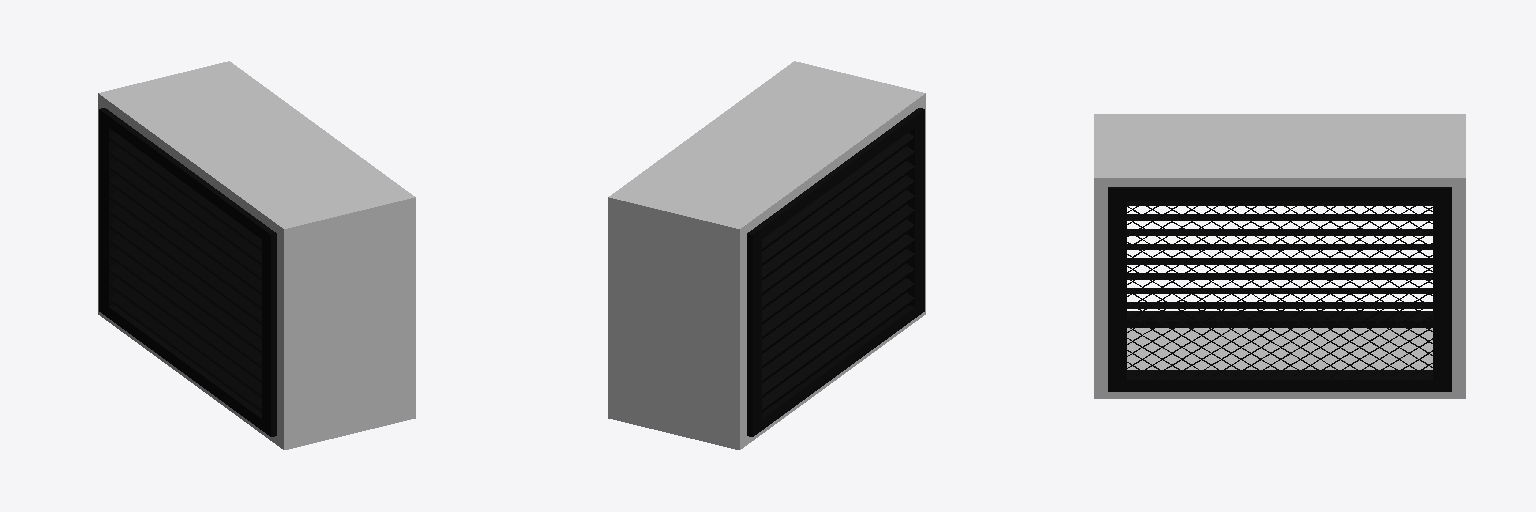
The model's file is kratka.obj.
The picture shows the model from 3 angles: view 1: azimuth 30°, elevation 25°; view 2: azimuth 150°, elevation 25°; view 3: azimuth 270°, elevation 25°; orthographic projection.
Visible parts, largest first — view 1: Kostka, Kostka.003_Kostka.004; view 2: Kostka, Kostka.003_Kostka.004; view 3: Kostka, Kostka.004_Kostka.005, Kostka.003_Kostka.004, Prostokąt_Prostokąt.001.
Part boxes in pixels (bbox=[...]): Kostka: bbox=[98, 61, 415, 449]; Kostka.003_Kostka.004: bbox=[99, 108, 276, 436]; Kostka: bbox=[608, 61, 925, 449]; Kostka.003_Kostka.004: bbox=[747, 108, 924, 436]; Kostka: bbox=[1094, 114, 1465, 398]; Kostka.004_Kostka.005: bbox=[1108, 187, 1451, 391]; Kostka.003_Kostka.004: bbox=[1127, 201, 1432, 327]; Prostokąt_Prostokąt.001: bbox=[1127, 201, 1432, 377].
Bounding box in the file's own units: 0.1786 × 0.2666 × 0.4067.